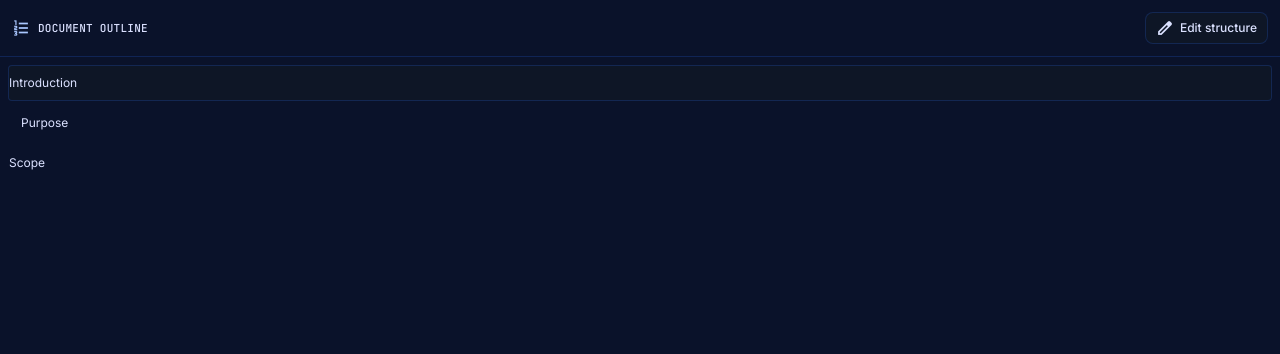
Test: Outline › edit structure › disables the actions while a change is being saved
Click the button "Edit structure".
click(1206, 28)  # box [1145, 12, 1268, 44]
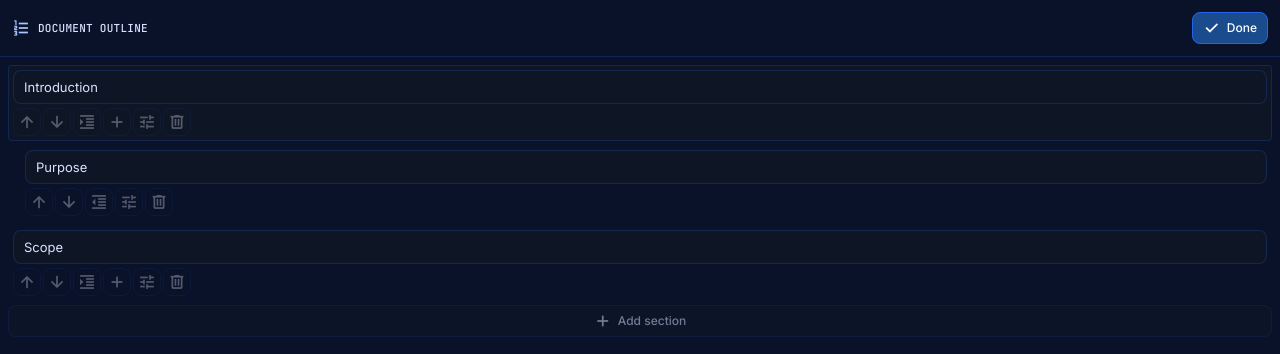
Expected: the button named "Delete Scope" is disabled, [163, 268, 191, 296]
